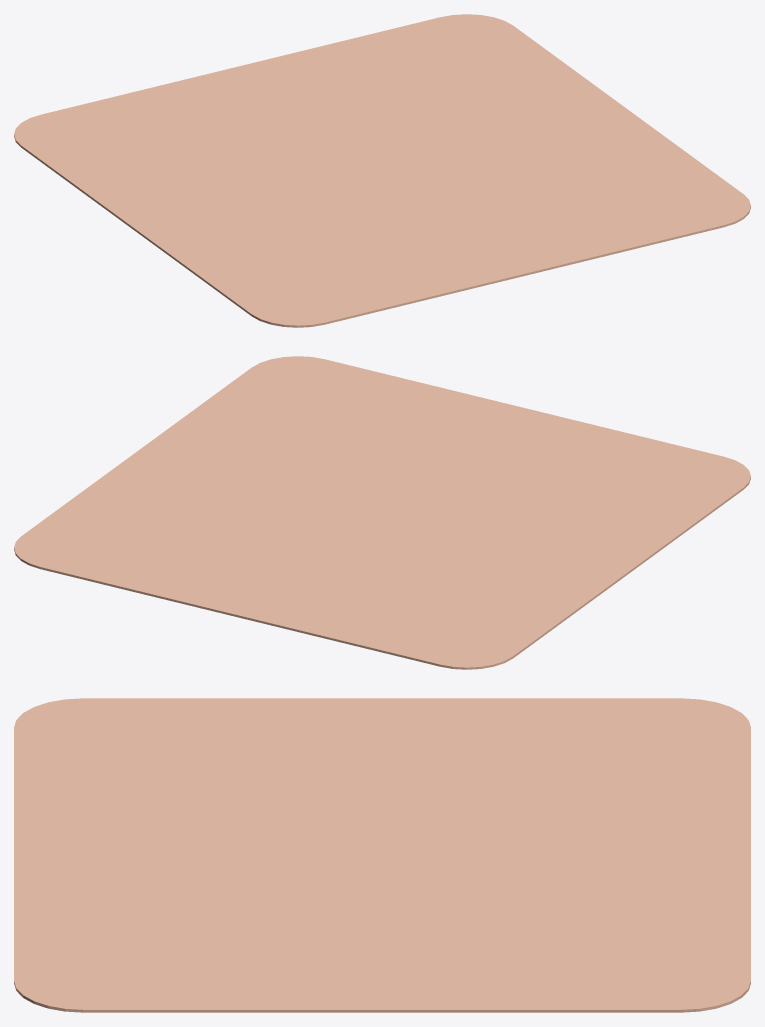
3 views of the same model, one above another, from view 1: azimuth 30°, elevation 25°; view 2: azimuth 150°, elevation 25°; view 3: azimuth 270°, elevation 25° (orthographic). The views are drawn at different scales.
Parts seen in each view (by area): view 1: COM-02 Floor Surface; view 2: COM-02 Floor Surface; view 3: COM-02 Floor Surface.
Boxes of the visible parts, <box> form: COM-02 Floor Surface: <box>14,14,750,327</box>; COM-02 Floor Surface: <box>14,356,750,669</box>; COM-02 Floor Surface: <box>14,698,750,1012</box>.
Size of the model in its own units: 1.92 by 0.008 by 1.92.
1 material, 1 textured.
